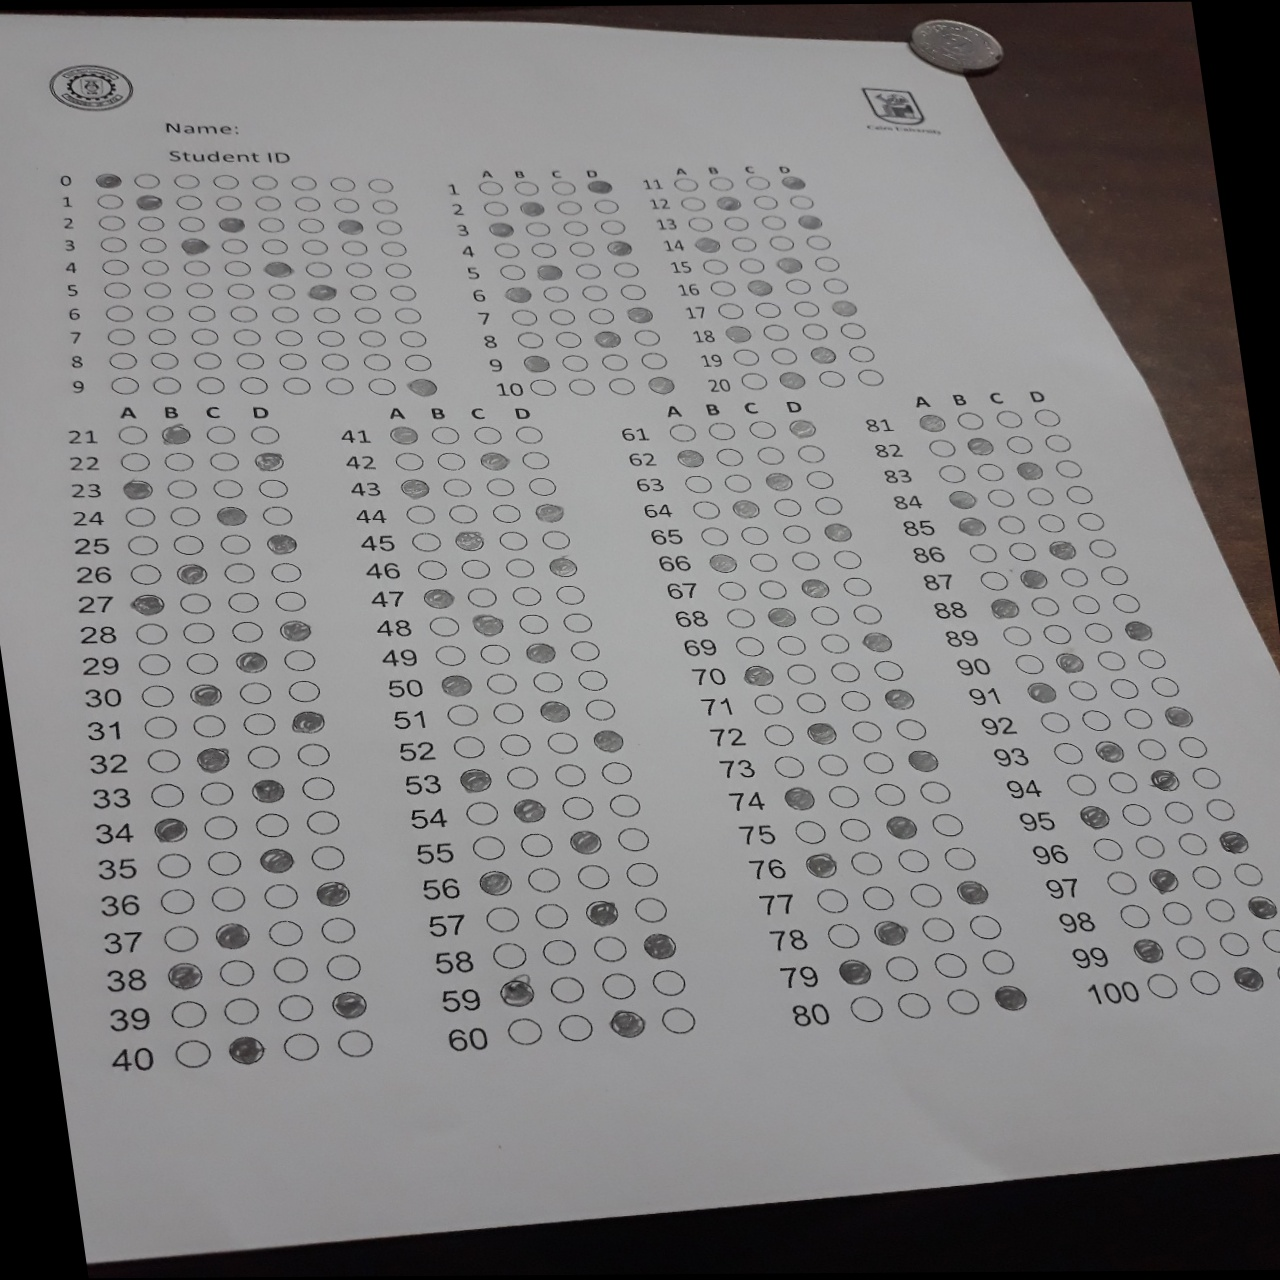not-c: (156, 921, 206, 955), (218, 994, 268, 1028), (277, 1028, 327, 1062), (316, 949, 367, 983), (259, 914, 309, 948), (169, 1036, 218, 1070), (163, 995, 212, 1029), (200, 881, 250, 915), (213, 956, 263, 990), (331, 1026, 380, 1060), (271, 989, 320, 1023), (265, 952, 314, 986), (313, 913, 362, 946), (154, 883, 200, 917), (224, 617, 268, 646), (147, 779, 190, 809), (202, 847, 246, 876), (305, 842, 349, 870), (252, 812, 297, 840), (197, 813, 241, 842), (297, 772, 341, 801), (236, 710, 280, 738), (132, 681, 177, 709), (175, 617, 219, 645), (300, 809, 343, 837), (291, 738, 334, 767), (241, 743, 285, 771), (139, 713, 183, 741), (185, 710, 229, 738), (232, 676, 275, 704), (132, 649, 176, 678), (179, 648, 223, 676), (275, 644, 319, 672), (258, 881, 302, 908), (142, 745, 186, 772), (154, 851, 196, 879), (193, 779, 237, 806), (282, 678, 326, 704), (554, 1013, 595, 1040), (891, 990, 932, 1017), (942, 988, 983, 1015), (905, 881, 946, 908), (894, 846, 935, 873), (938, 845, 979, 872), (836, 817, 877, 844), (858, 748, 899, 775), (893, 715, 934, 742), (757, 720, 798, 747), (790, 689, 831, 716), (782, 659, 823, 686), (574, 862, 614, 888), (524, 865, 564, 892), (632, 896, 672, 922), (598, 971, 638, 998), (659, 1005, 699, 1032), (869, 779, 908, 806), (769, 753, 809, 779), (747, 690, 787, 717), (482, 906, 523, 932), (588, 935, 629, 961), (490, 942, 531, 968), (845, 995, 886, 1021), (978, 948, 1019, 974), (928, 952, 969, 978), (883, 955, 924, 981), (926, 812, 967, 838), (824, 784, 865, 810), (846, 719, 887, 744), (824, 921, 863, 948), (530, 901, 570, 927), (540, 939, 580, 965), (648, 969, 688, 995), (503, 1017, 543, 1043), (813, 886, 853, 912), (858, 885, 898, 911), (917, 915, 956, 941), (967, 913, 1007, 939), (845, 849, 885, 874), (915, 778, 955, 804), (792, 818, 832, 844), (813, 753, 853, 778), (836, 687, 876, 713), (869, 658, 908, 683), (549, 975, 587, 1001), (826, 658, 865, 683), (390, 449, 430, 474), (597, 760, 636, 784), (175, 591, 213, 615), (257, 503, 295, 527), (501, 554, 539, 579), (463, 585, 502, 610), (558, 795, 597, 819), (714, 577, 750, 602), (270, 588, 309, 612), (427, 422, 467, 445), (520, 474, 560, 497), (493, 529, 533, 552), (413, 558, 452, 581), (556, 612, 595, 635), (549, 762, 588, 785), (127, 561, 165, 585), (224, 590, 263, 613), (267, 559, 306, 583), (166, 503, 205, 526), (256, 476, 294, 499), (207, 477, 246, 501), (115, 448, 154, 471), (114, 421, 152, 444), (470, 422, 509, 445), (512, 422, 551, 445), (486, 502, 525, 525), (402, 502, 441, 525), (407, 530, 445, 553), (538, 527, 577, 551), (508, 583, 546, 606), (515, 612, 553, 635), (566, 638, 605, 661), (483, 670, 522, 694), (497, 733, 536, 756), (505, 765, 544, 789), (462, 801, 501, 824), (469, 835, 508, 858), (622, 862, 661, 885), (1144, 972, 1180, 996), (200, 423, 240, 445), (170, 532, 207, 556), (163, 477, 200, 501), (159, 449, 197, 472), (204, 450, 241, 474), (245, 421, 282, 444), (517, 448, 554, 471), (431, 449, 469, 472), (437, 476, 475, 499), (444, 502, 482, 525), (457, 557, 495, 580), (551, 583, 588, 606), (573, 667, 611, 690), (445, 703, 483, 727), (491, 701, 529, 724), (450, 735, 488, 758), (830, 545, 865, 570), (216, 532, 254, 554), (122, 532, 161, 554), (121, 506, 159, 529), (424, 615, 463, 638), (431, 644, 470, 666), (474, 642, 512, 665), (527, 670, 566, 693), (544, 731, 583, 754), (607, 794, 646, 816), (615, 826, 654, 849), (1186, 971, 1223, 994), (817, 629, 851, 654), (840, 573, 874, 598), (1230, 862, 1264, 886), (1203, 898, 1237, 922), (1217, 931, 1251, 955), (132, 622, 170, 645), (220, 560, 258, 583), (481, 474, 518, 496), (581, 697, 619, 720), (517, 832, 554, 855), (731, 634, 767, 658), (774, 633, 809, 656), (849, 602, 884, 626), (756, 576, 791, 599), (788, 549, 823, 572), (1175, 831, 1210, 855), (1091, 836, 1124, 860), (1189, 864, 1221, 888), (808, 602, 842, 626), (1105, 869, 1139, 892), (1158, 900, 1192, 924), (1119, 802, 1152, 825), (1116, 903, 1149, 926), (1085, 537, 1119, 559), (1160, 799, 1194, 822), (1133, 835, 1167, 857), (723, 606, 758, 627), (1203, 797, 1235, 819), (1173, 935, 1206, 958), (267, 302, 301, 324), (747, 551, 781, 572), (697, 524, 731, 545), (813, 493, 847, 515), (689, 499, 723, 520), (712, 445, 745, 467), (794, 443, 828, 464), (802, 468, 836, 489), (925, 437, 959, 458), (952, 410, 986, 431), (993, 407, 1027, 428), (1030, 407, 1064, 428), (1003, 434, 1037, 455), (1051, 457, 1085, 478), (1063, 483, 1097, 504), (983, 486, 1017, 508), (995, 512, 1029, 533), (1035, 511, 1069, 532), (1057, 565, 1091, 586), (1097, 565, 1131, 586), (1108, 592, 1142, 613), (1040, 622, 1074, 644), (998, 624, 1032, 645), (1095, 649, 1129, 670), (1148, 675, 1182, 696), (1080, 708, 1114, 729), (1121, 707, 1155, 728), (1133, 737, 1167, 758), (1176, 736, 1210, 757), (1062, 774, 1096, 795), (1105, 771, 1139, 792), (1189, 767, 1223, 788), (319, 350, 354, 370), (274, 350, 309, 370), (232, 350, 267, 370), (190, 350, 225, 370), (147, 350, 182, 370), (188, 326, 223, 346), (390, 304, 425, 324), (141, 302, 176, 322), (102, 302, 137, 322), (738, 524, 771, 545), (937, 462, 969, 483), (979, 568, 1012, 590), (1028, 594, 1061, 615), (1082, 621, 1115, 642), (1053, 742, 1085, 763), (354, 328, 390, 347), (108, 375, 142, 395), (149, 375, 183, 395), (279, 375, 313, 395), (400, 352, 434, 372), (359, 352, 393, 372), (309, 304, 343, 324), (226, 302, 260, 322), (186, 302, 220, 322), (779, 523, 813, 543), (682, 474, 716, 493), (753, 445, 787, 465), (973, 461, 1007, 481), (1022, 485, 1056, 505), (1073, 511, 1107, 531), (967, 542, 1001, 561), (1006, 542, 1040, 561), (1070, 594, 1104, 614), (1013, 653, 1047, 673), (1108, 678, 1142, 697), (1065, 679, 1099, 699), (1039, 712, 1073, 731), (1136, 647, 1167, 668), (237, 376, 272, 395), (107, 350, 142, 369), (230, 327, 265, 346), (271, 327, 306, 346), (313, 327, 348, 346), (395, 328, 430, 347), (348, 305, 383, 324), (770, 496, 803, 516), (721, 472, 754, 492), (1040, 433, 1073, 452), (195, 375, 229, 394), (322, 375, 356, 394), (365, 375, 399, 394), (104, 326, 138, 345), (145, 326, 179, 345), (139, 280, 173, 298), (181, 258, 213, 275), (256, 215, 288, 232), (590, 197, 622, 215), (265, 282, 297, 300), (386, 284, 417, 301), (304, 260, 335, 278), (98, 234, 130, 252), (373, 217, 404, 234), (370, 197, 402, 215), (366, 176, 397, 193), (294, 217, 326, 234), (176, 215, 207, 232), (565, 377, 597, 395), (845, 343, 877, 361), (782, 277, 813, 294), (819, 277, 851, 294), (707, 279, 738, 297), (686, 215, 717, 232), (211, 193, 244, 210), (170, 171, 203, 188), (554, 198, 587, 215), (520, 219, 553, 236), (767, 347, 799, 363), (760, 324, 792, 340), (667, 423, 697, 441), (738, 256, 769, 273), (102, 281, 134, 298), (183, 281, 215, 298), (222, 259, 253, 275), (138, 259, 170, 275), (98, 258, 130, 274), (136, 236, 168, 252), (218, 237, 250, 253), (258, 237, 290, 253), (299, 238, 331, 254), (339, 239, 370, 256), (326, 175, 358, 191), (292, 195, 324, 211), (250, 173, 281, 190), (252, 193, 284, 210), (490, 241, 522, 258), (611, 260, 642, 277), (572, 263, 604, 279), (496, 264, 527, 280), (578, 284, 610, 300), (617, 282, 648, 299), (586, 307, 618, 324), (527, 377, 559, 394), (707, 422, 738, 438), (747, 421, 778, 437), (700, 258, 731, 274), (765, 233, 797, 250), (721, 215, 753, 231), (742, 173, 774, 190), (347, 284, 377, 300), (382, 261, 413, 278), (377, 240, 408, 257), (331, 196, 361, 212), (287, 173, 318, 190), (549, 179, 579, 196), (481, 200, 513, 216), (560, 218, 591, 234), (542, 286, 572, 302), (508, 309, 540, 325), (515, 331, 545, 347), (552, 331, 583, 347), (640, 352, 670, 368), (600, 354, 631, 370), (560, 354, 591, 370), (738, 372, 769, 388), (751, 301, 782, 318), (791, 300, 822, 316), (810, 256, 843, 271), (801, 233, 833, 248), (729, 234, 760, 251), (704, 173, 735, 190), (669, 176, 700, 192), (224, 282, 256, 298), (210, 172, 241, 188), (173, 193, 205, 209), (134, 215, 165, 230), (476, 179, 508, 195), (595, 219, 627, 234), (631, 329, 662, 345), (729, 349, 761, 365), (816, 370, 847, 386), (855, 369, 886, 384), (799, 322, 831, 338), (678, 195, 709, 210), (343, 261, 374, 277), (131, 172, 162, 188), (95, 193, 125, 209), (96, 215, 127, 230), (511, 179, 542, 195), (527, 241, 558, 257), (565, 241, 595, 257), (546, 308, 577, 324), (607, 376, 638, 392), (839, 322, 870, 338), (715, 302, 745, 318), (758, 215, 789, 230), (784, 195, 815, 210), (749, 193, 779, 209), (1261, 927, 1280, 951), (1274, 962, 1280, 986)
taken-c: (992, 981, 1033, 1015), (1129, 937, 1170, 971), (1144, 866, 1185, 900), (1227, 964, 1267, 998), (1242, 892, 1280, 926), (871, 918, 911, 946), (509, 794, 549, 822), (454, 765, 493, 794), (248, 777, 288, 805), (313, 880, 353, 908), (152, 816, 192, 844), (165, 962, 205, 990), (1216, 829, 1252, 859), (1077, 802, 1114, 832), (1148, 768, 1184, 798), (986, 595, 1022, 626), (1015, 565, 1051, 595), (1012, 456, 1048, 486), (474, 869, 515, 896), (588, 726, 629, 753), (520, 639, 561, 666), (640, 931, 679, 959), (544, 553, 583, 581), (226, 1034, 265, 1062), (495, 978, 535, 1005), (581, 898, 621, 925), (436, 672, 476, 699), (468, 610, 508, 636), (193, 745, 233, 772), (257, 847, 297, 874), (213, 921, 253, 948), (329, 990, 369, 1017), (1092, 738, 1128, 769), (1024, 678, 1060, 708), (1046, 536, 1081, 566), (1162, 702, 1198, 731), (1051, 649, 1088, 679), (1121, 617, 1157, 646), (953, 513, 989, 543), (946, 486, 982, 516), (837, 956, 874, 985), (607, 1009, 646, 1036), (565, 828, 604, 855), (538, 697, 577, 724), (915, 409, 953, 436), (449, 529, 488, 553), (529, 501, 567, 525), (475, 447, 513, 471), (964, 434, 999, 461), (418, 586, 458, 610), (396, 475, 434, 499), (175, 561, 213, 584), (128, 594, 166, 617), (883, 815, 917, 839), (384, 423, 422, 445), (247, 448, 285, 470), (212, 505, 250, 527), (155, 422, 192, 444), (275, 619, 313, 641), (286, 709, 324, 731), (232, 651, 270, 673), (803, 853, 838, 877), (955, 879, 990, 903), (263, 531, 299, 553), (120, 478, 156, 501), (782, 787, 816, 810), (188, 683, 225, 704), (787, 418, 819, 440), (821, 520, 852, 542), (859, 629, 891, 651), (721, 324, 754, 343), (727, 498, 760, 518), (672, 448, 704, 468), (881, 688, 914, 708), (502, 282, 535, 302), (584, 175, 617, 195), (179, 234, 210, 256), (704, 554, 738, 573), (762, 471, 794, 491), (797, 578, 829, 598), (602, 238, 634, 258), (90, 169, 122, 189), (763, 606, 796, 625), (644, 375, 676, 394), (744, 665, 775, 685), (805, 722, 836, 742), (593, 329, 624, 349), (532, 263, 563, 282), (485, 219, 516, 239), (263, 259, 293, 279), (906, 750, 938, 769), (622, 305, 654, 324), (520, 354, 552, 373), (515, 199, 546, 218), (407, 377, 438, 396), (307, 282, 338, 301), (217, 217, 247, 236), (132, 192, 163, 211), (336, 217, 366, 236), (829, 299, 859, 315), (692, 237, 722, 252), (772, 257, 803, 272), (745, 279, 775, 294), (806, 347, 836, 362), (777, 373, 806, 388), (779, 175, 806, 190), (796, 213, 823, 229), (715, 195, 741, 209)
